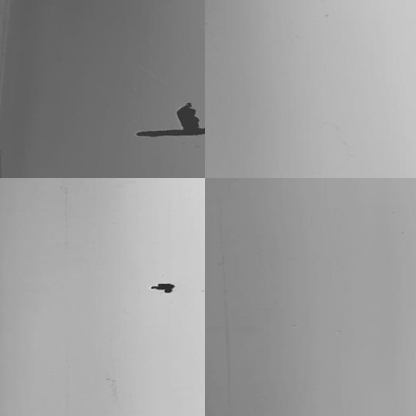fengxi: (133, 127, 204, 140)
kongdong: (175, 101, 201, 128), (149, 279, 176, 297)
